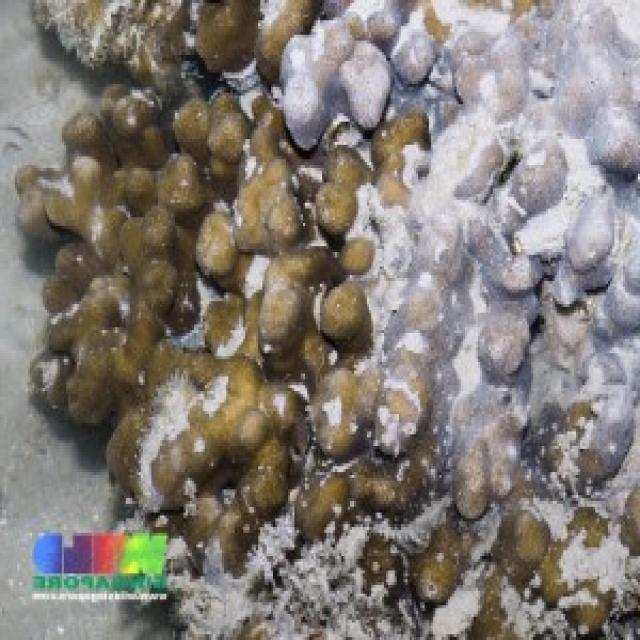Bleached: (286, 1, 633, 437), (123, 444, 640, 640), (128, 380, 201, 509), (31, 1, 140, 65)
Healthy: (28, 153, 350, 503), (61, 89, 280, 152)
